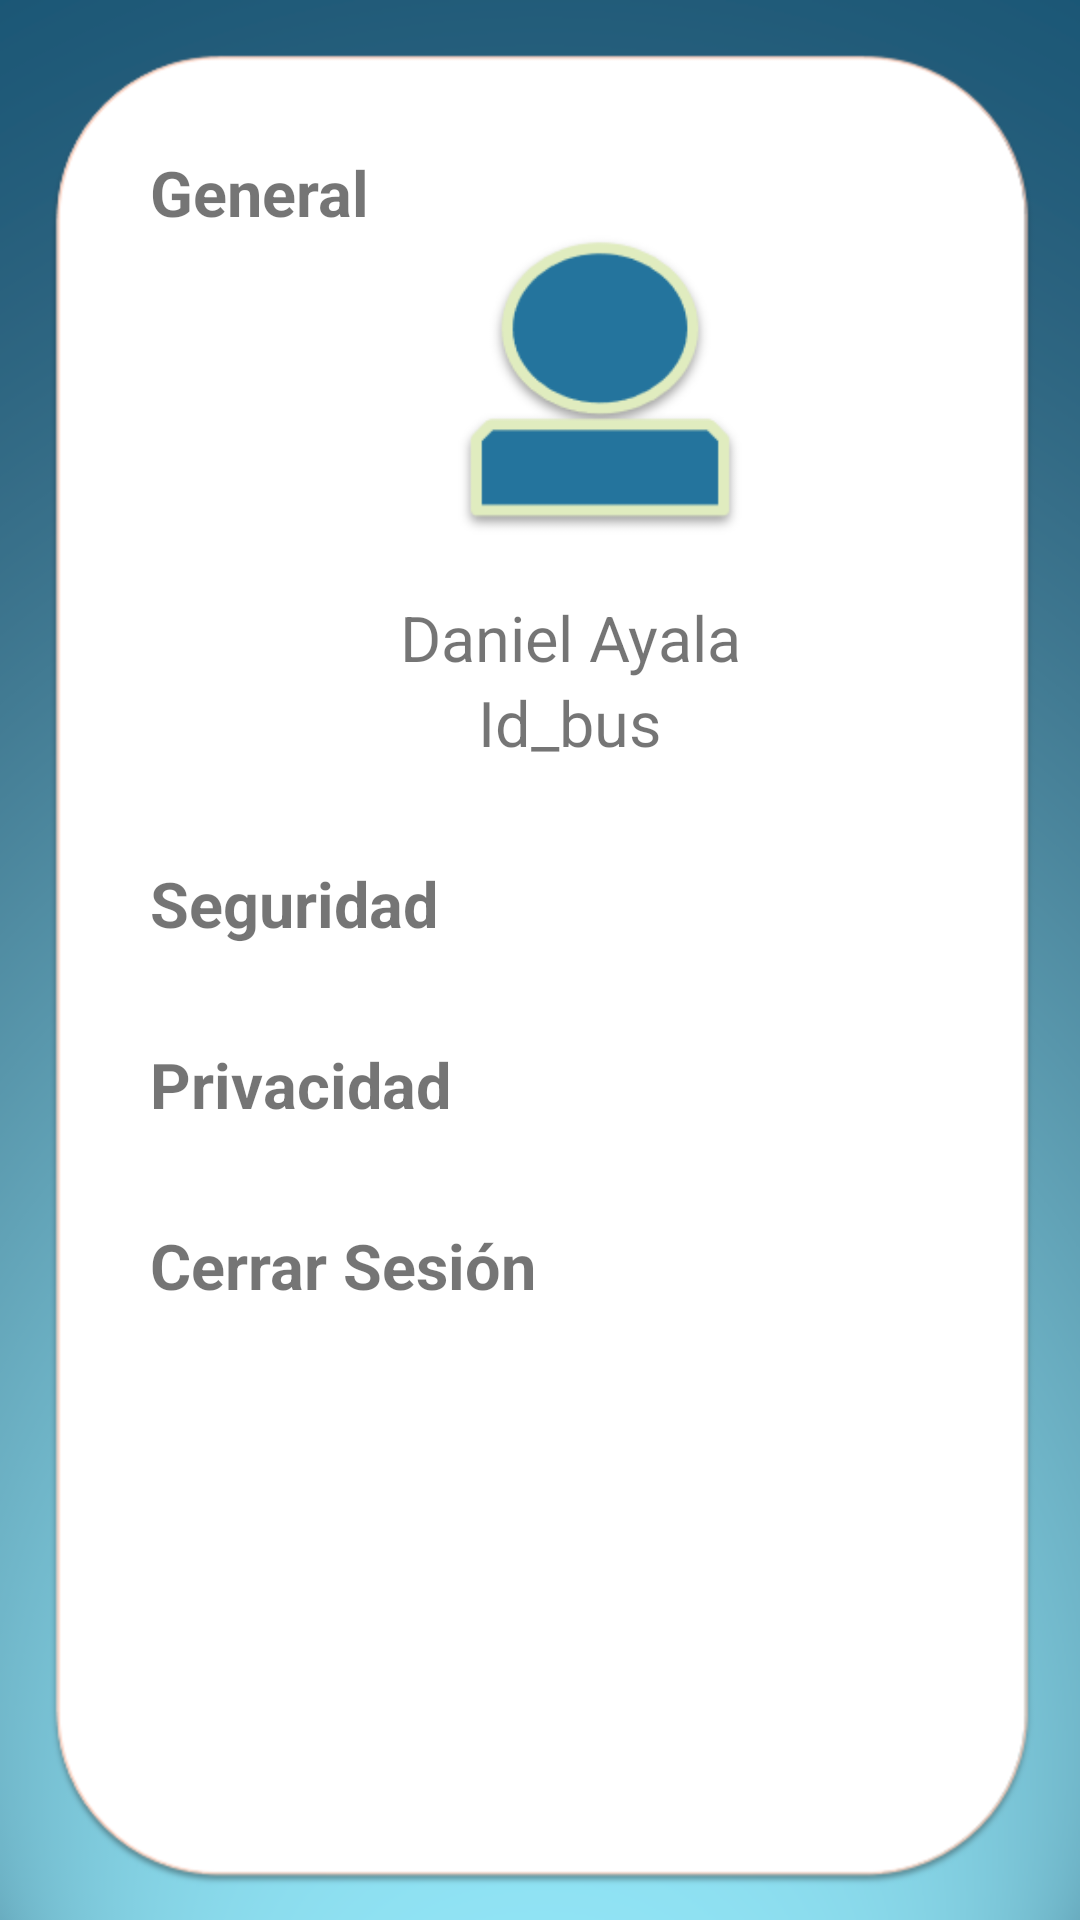

Where to tap for icons on this 1080x1920 app screen, as [x,y]:
perfil: [600,383]
